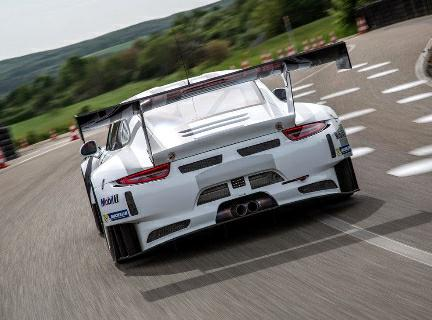奔驰-C级: (47, 41, 373, 269)
